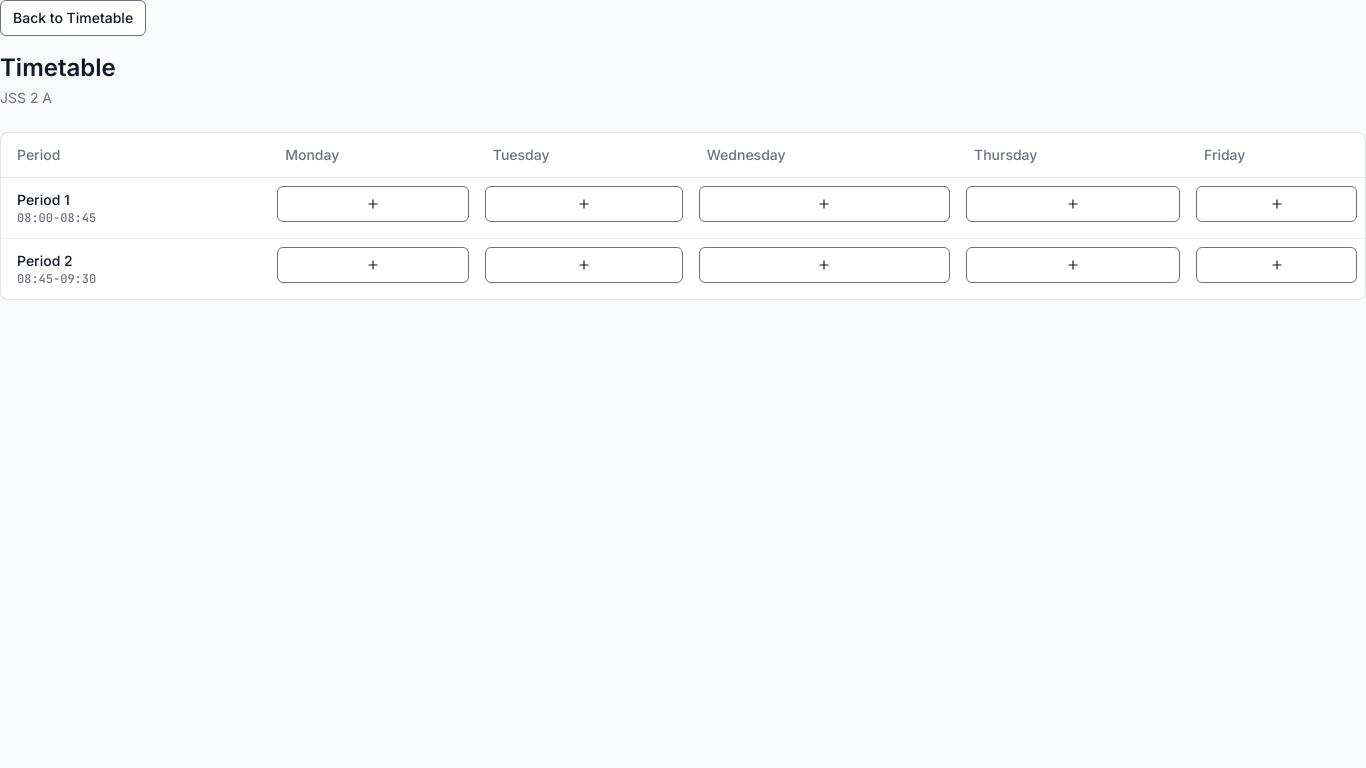
Test: TimetableBuilderPage › the dialog offers no teacher control — only Subject
Expected: the text "JSS 2 A" is shown, [0,89,52,106]
Click the button named "Assign a subject on Monday Period 1" at (373, 204), box [277,186,469,222]
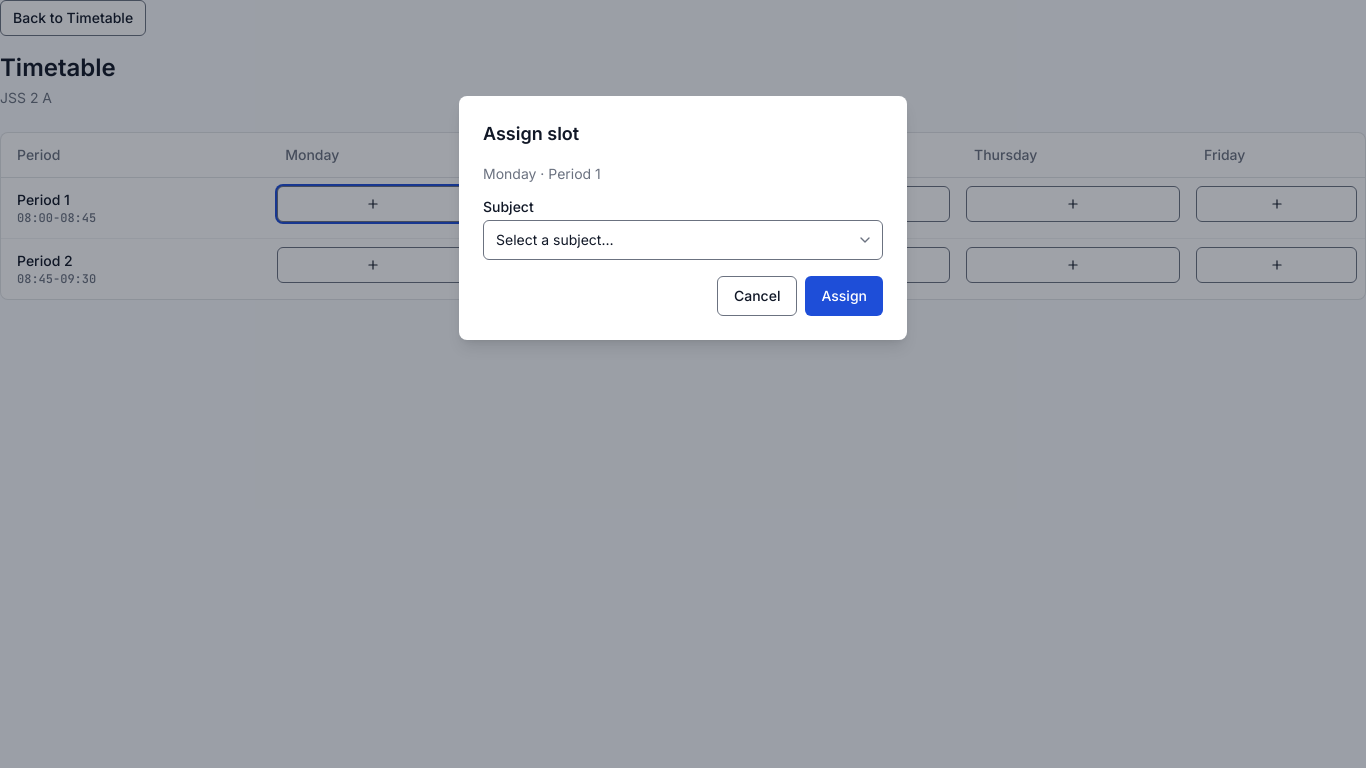
Result: the dropdown labelled "Subject" is shown at [483,220,883,260]
